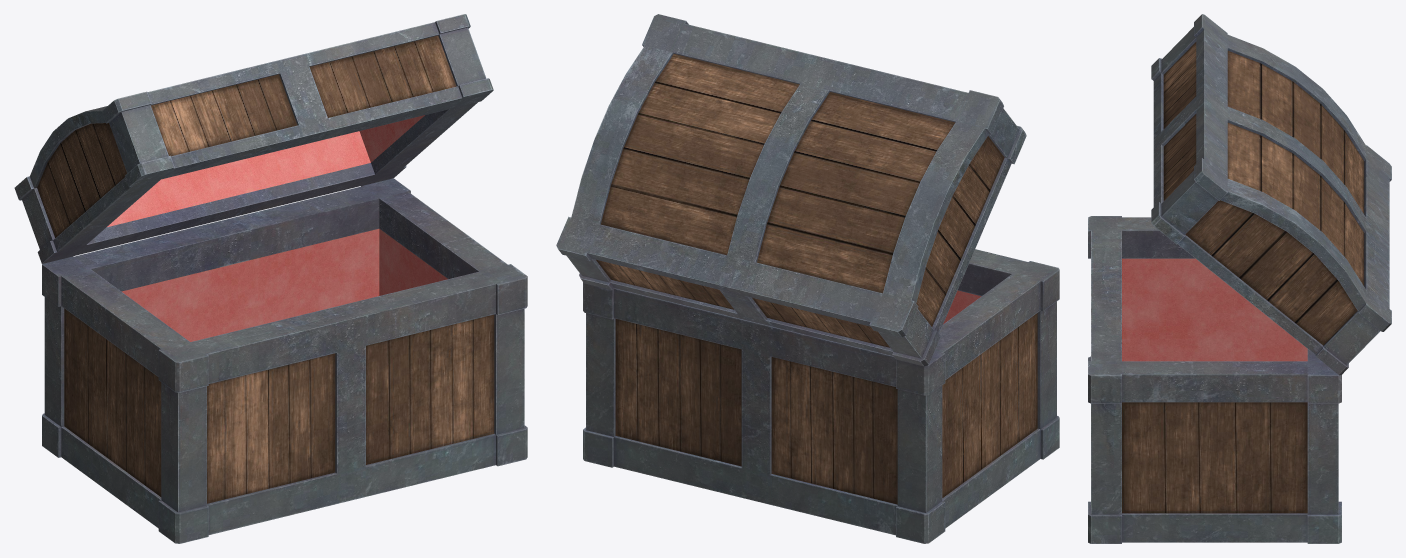
File: chest1.glb
3 views of the same model, side by side, from view 1: azimuth 30°, elevation 25°; view 2: azimuth 150°, elevation 25°; view 3: azimuth 270°, elevation 25° (orthographic). The views are drawn at different scales.
Visible parts, largest first — view 1: Bottom, Top; view 2: Top, Bottom; view 3: Bottom, Top.
Boxes of the visible parts, left/top/right/bottom form: Bottom: left=42, top=178, right=527, bottom=543; Top: left=14, top=14, right=493, bottom=263; Top: left=556, top=14, right=1026, bottom=366; Bottom: left=583, top=249, right=1059, bottom=543; Bottom: left=1088, top=216, right=1341, bottom=543; Top: left=1151, top=14, right=1391, bottom=375.
Size of the model in its own units: 1.3 by 1.41 by 1.05.
2 materials, 2 textured.
